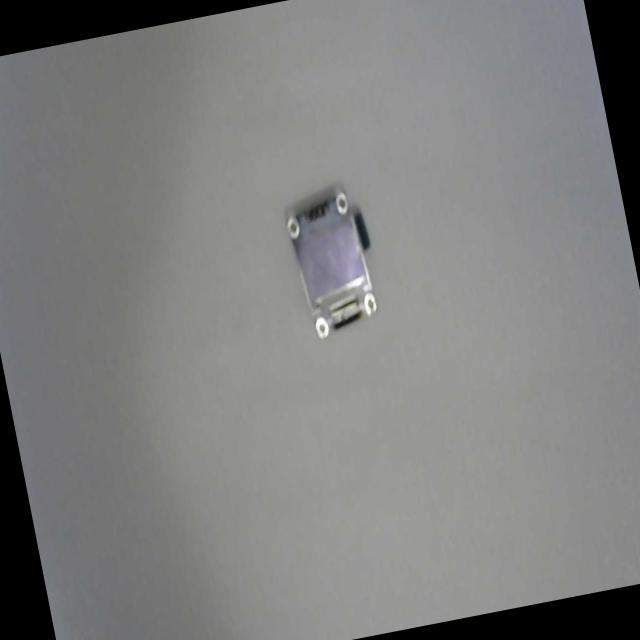oled: (278, 180, 394, 347)
